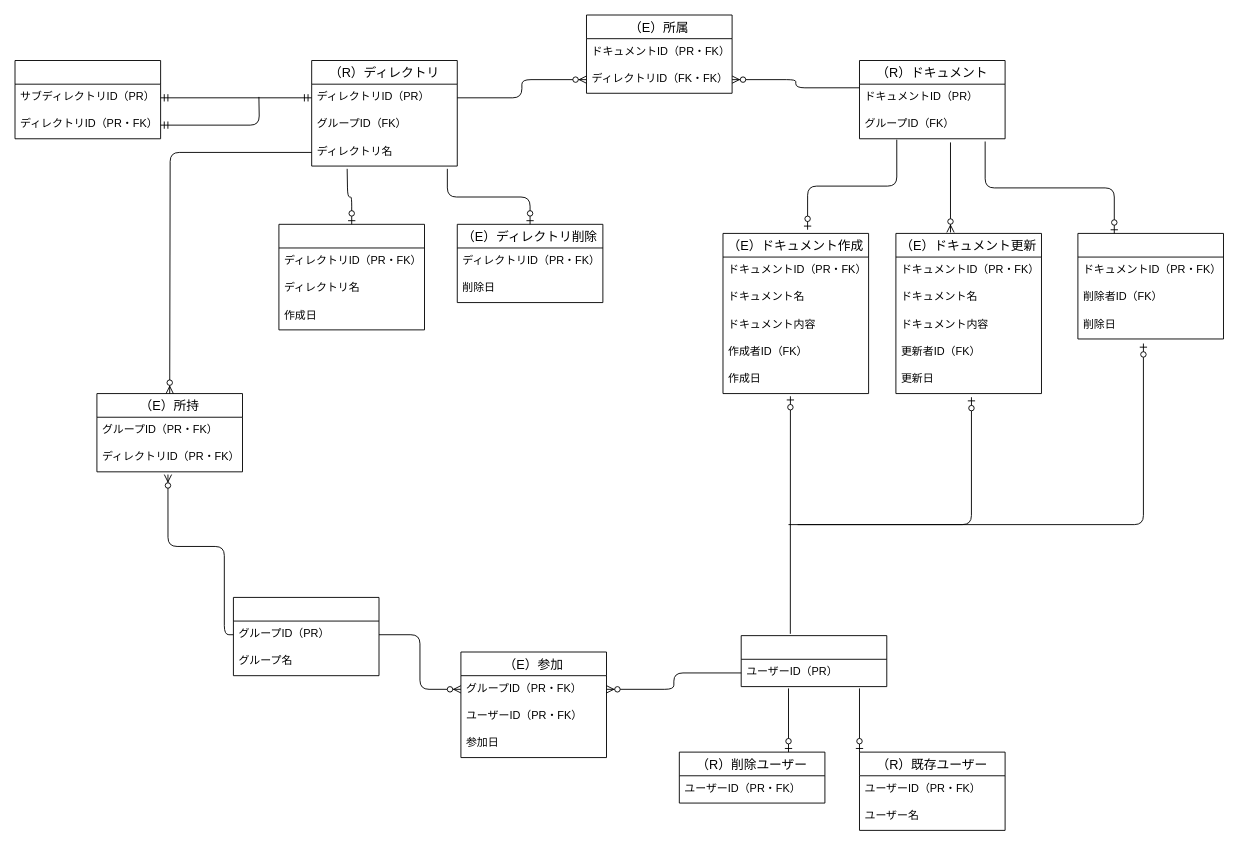
This 1239x845 diagram has some shape labels left out. Each missing label, with the box of its shape:
（E）ディレクトリ作成: (278, 223, 425, 330)
（E）ドキュメント削除: (1077, 233, 1223, 339)
（R）グループ: (233, 597, 379, 676)
（R）サブディレクトリ: (14, 60, 161, 139)
（R）ユーザー: (740, 635, 887, 687)
